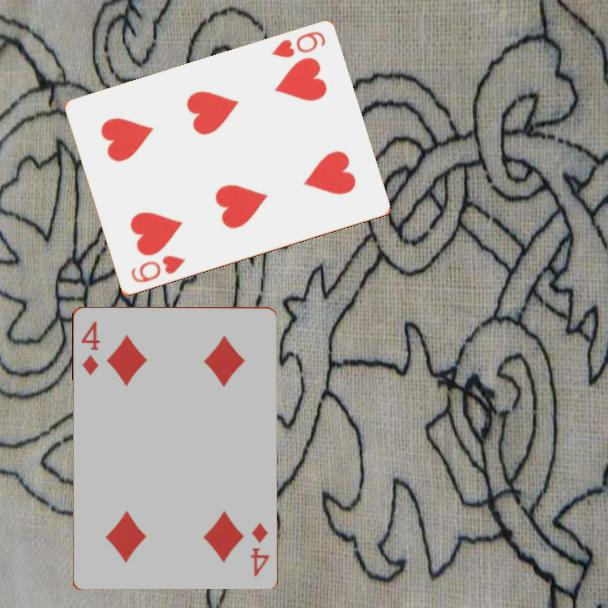d04: (77, 317, 103, 378), (246, 519, 272, 579)
h06: (127, 252, 188, 286), (268, 28, 328, 61)
